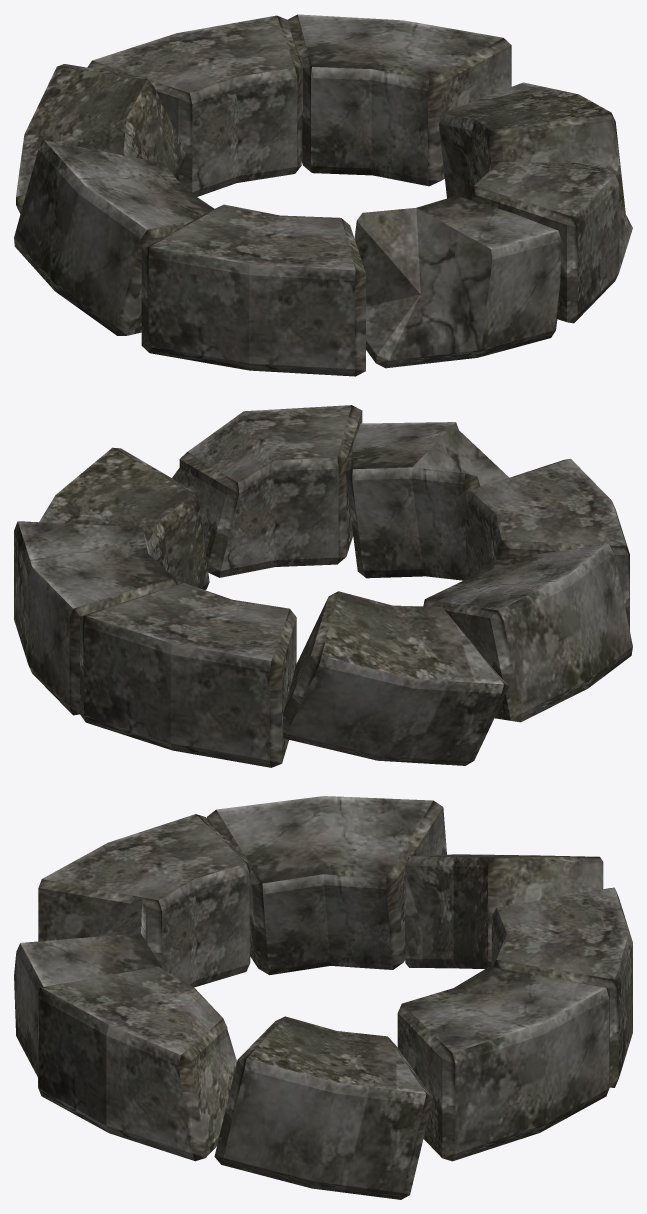
The model's file is TW2_9_ADDONS_12_2_1-transformed.glb.
3 views of the same model, one above another, from view 1: azimuth 30°, elevation 25°; view 2: azimuth 150°, elevation 25°; view 3: azimuth 270°, elevation 25° (orthographic). The views are drawn at different scales.
Parts seen in each view (by area): view 1: default; view 2: default; view 3: default.
Boxes of the visible parts, bbox=[...] form: default: bbox=[14, 14, 632, 376]; default: bbox=[14, 405, 632, 767]; default: bbox=[14, 796, 632, 1199].
Bounding box in the file's own units: 1.12 × 0.3367 × 1.11.
1 material, 1 textured.
